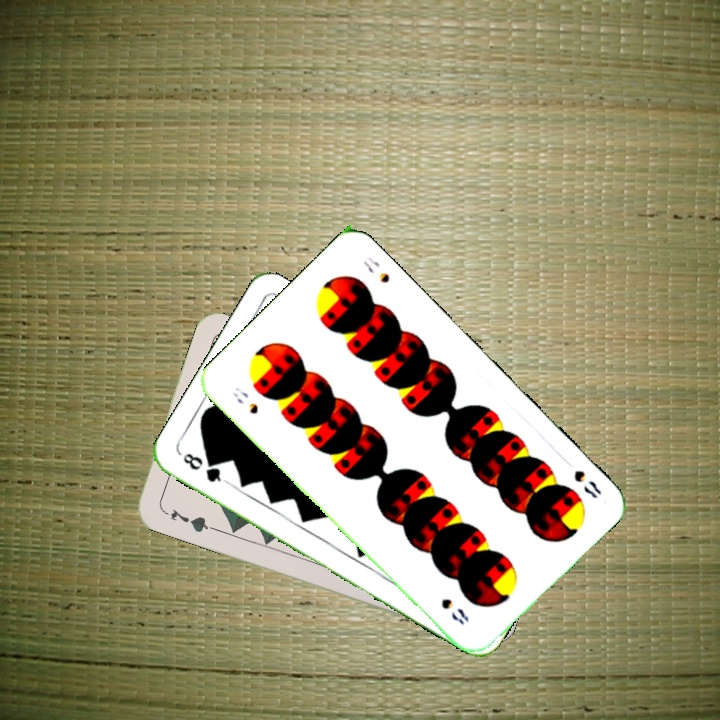G7: (158, 504, 215, 535)
G8: (178, 449, 230, 486)
S8: (569, 466, 604, 502), (228, 383, 261, 417)
